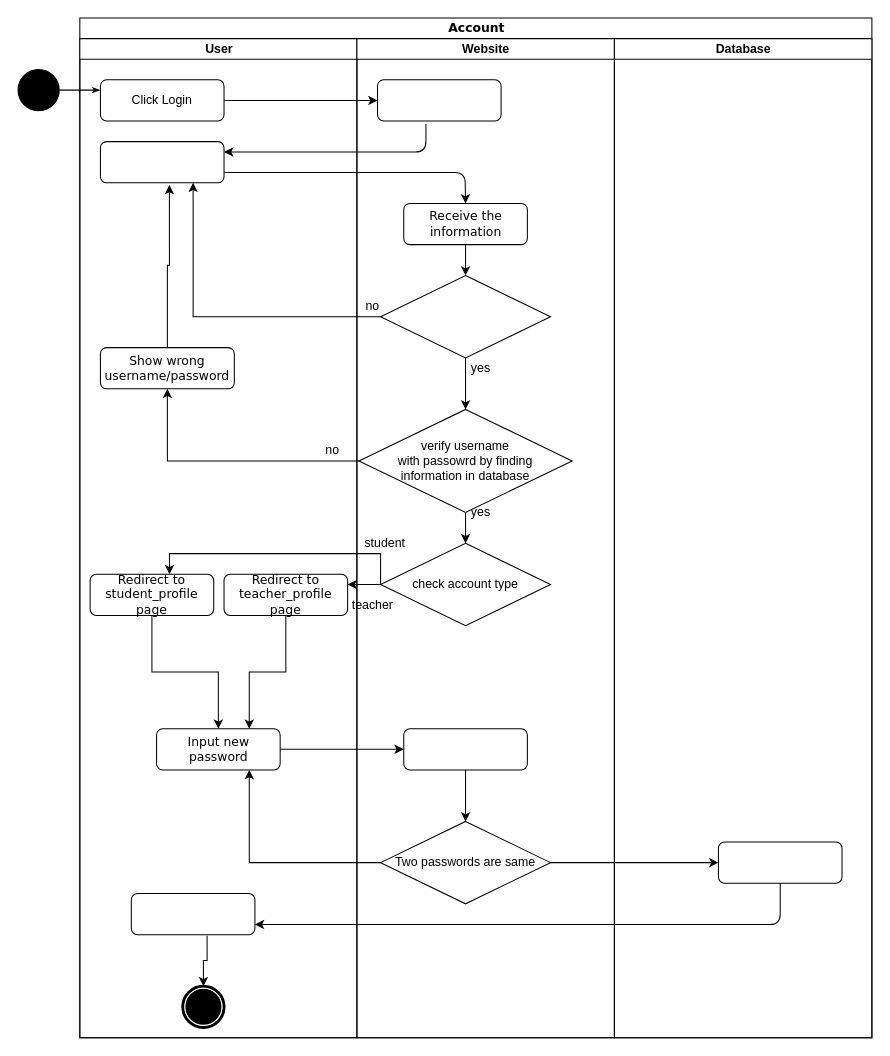
This 890x1056 diagram has some shape labels left out. The centre of each missing label's shape, as x and y in pixels:
"check valid input" goes at point 465,316.
"Input information" goes at point 161,162.
"Receive new password" goes at point 465,749.
"Receive update request" goes at point 779,862.
"Redirect to Login page" goes at point 438,100.
"Redirect to stduent/teacher Profile page" goes at point 192,913.
